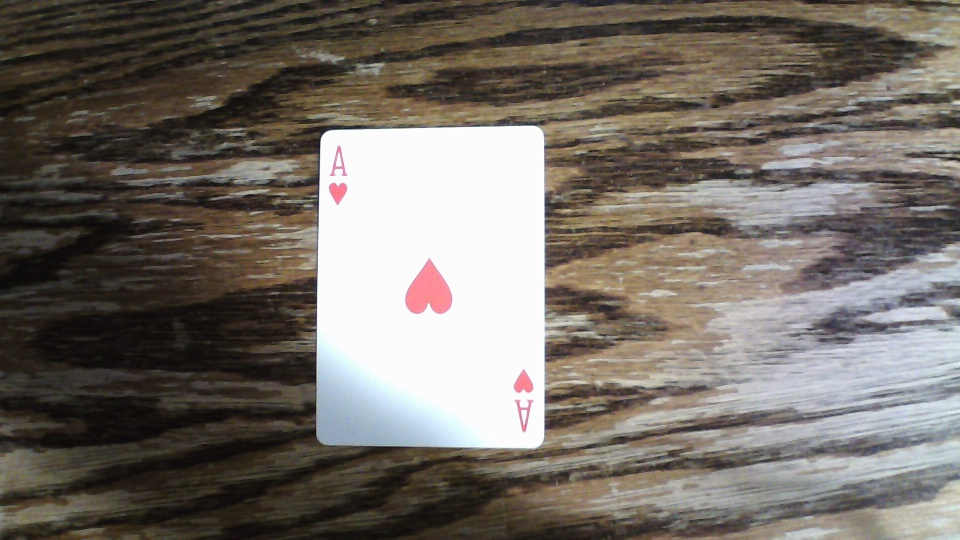ace: (316, 125, 547, 451)
